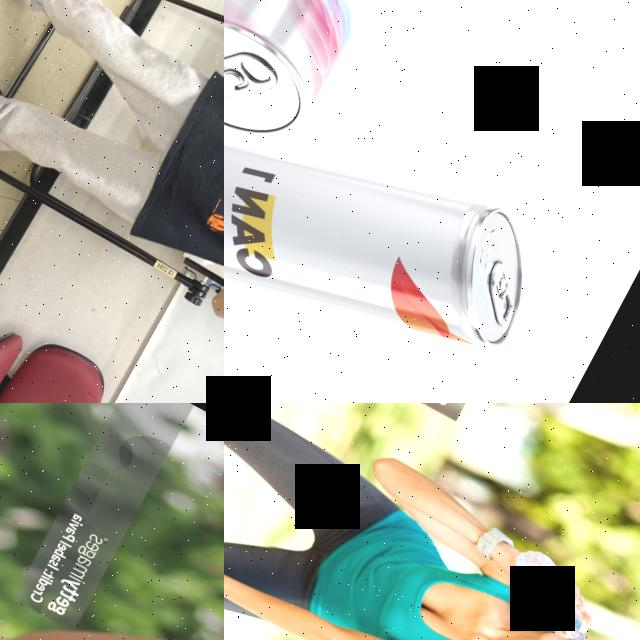bottle: (0, 514, 224, 640), (489, 541, 615, 640)
can: (224, 13, 561, 403), (224, 0, 417, 162)
